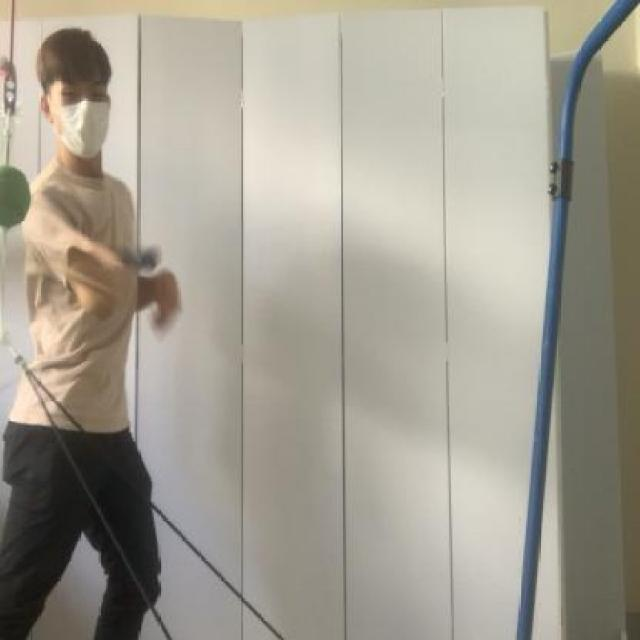baseball: (0, 144, 38, 238)
